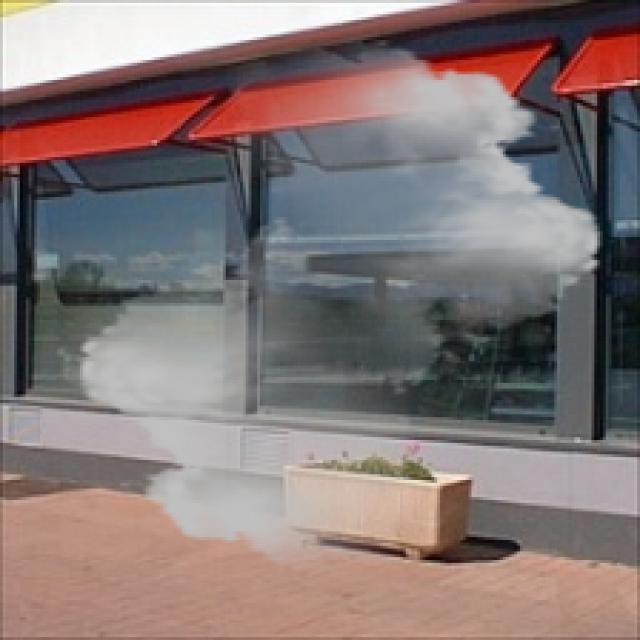smoke: (60, 40, 620, 571)
